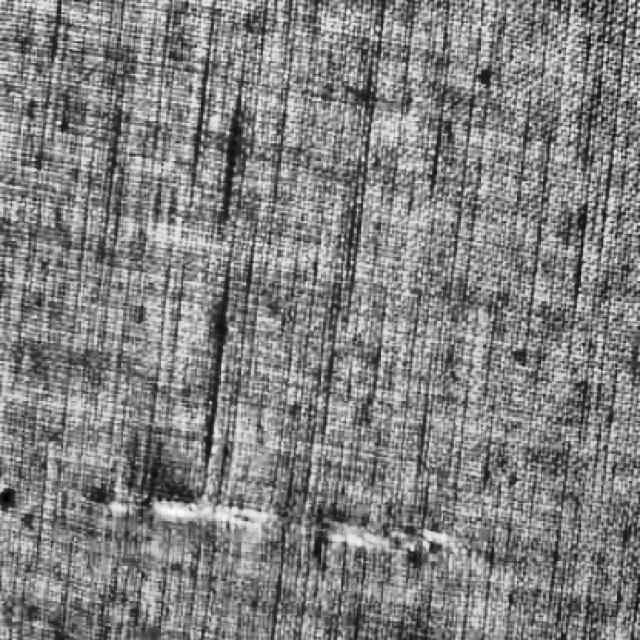thread_error: (48, 476, 467, 581)
